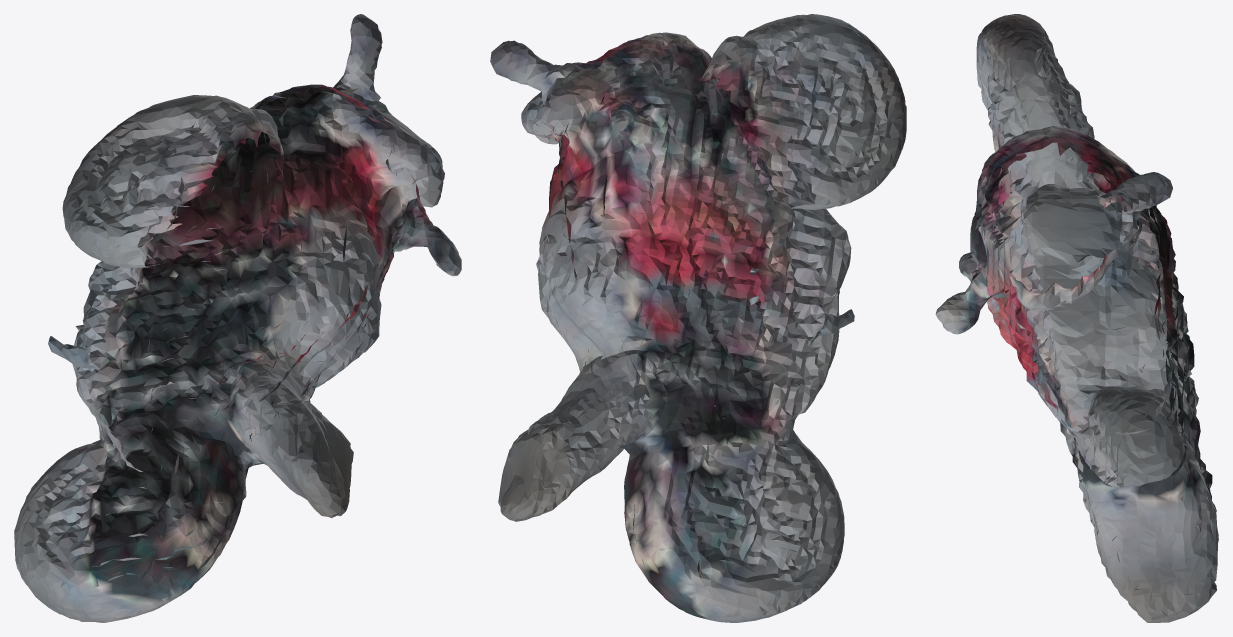
The model's file is img23d-bike.glb.
The picture shows the model from 3 angles, left to right: view 1: azimuth 30°, elevation 25°; view 2: azimuth 150°, elevation 25°; view 3: azimuth 270°, elevation 25°; orthographic projection. The views are drawn at different scales.
Visible parts, largest first — view 1: world; view 2: world; view 3: world.
Boxes of the visible parts, <box> form: world: <box>14,14,461,622</box>; world: <box>490,14,906,622</box>; world: <box>935,14,1218,622</box>.
Size of the model in its own units: 0.6577 by 0.9445 by 0.4493.
